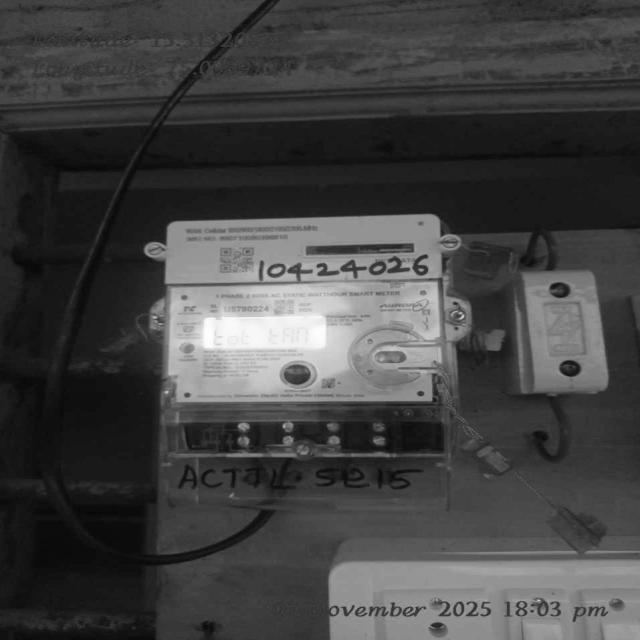meter: (163, 215, 449, 405)
